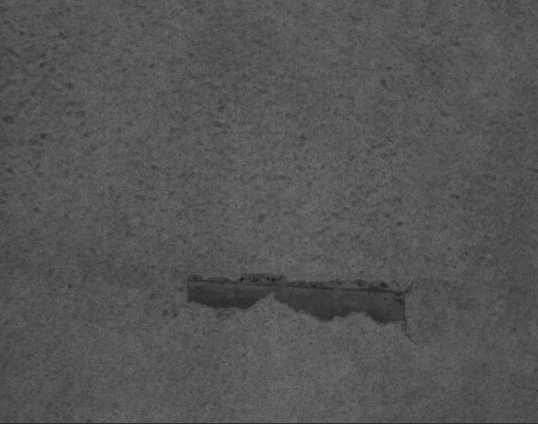裂缝: (176, 227, 392, 339)
